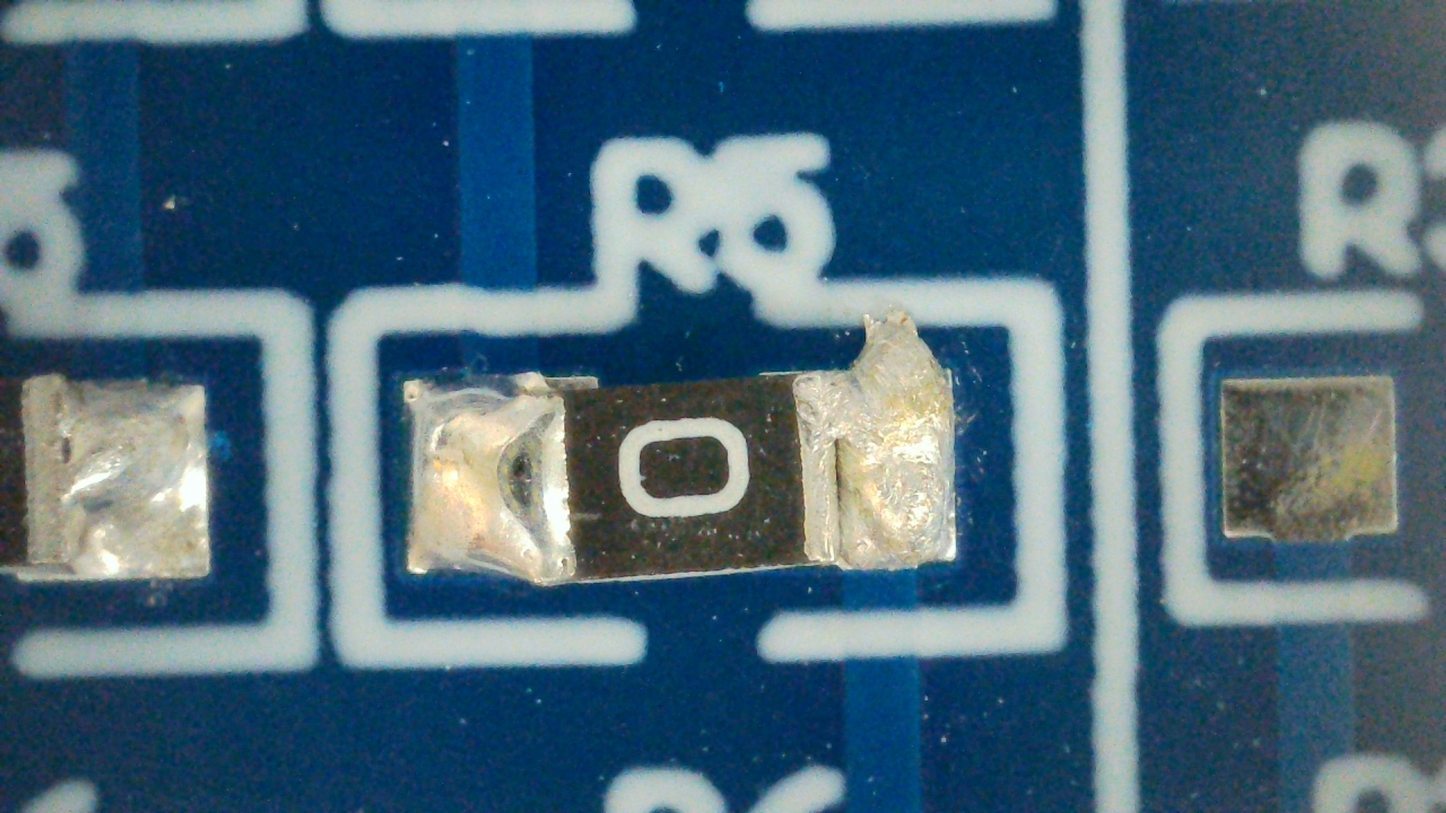NG: (407, 310, 956, 586)
